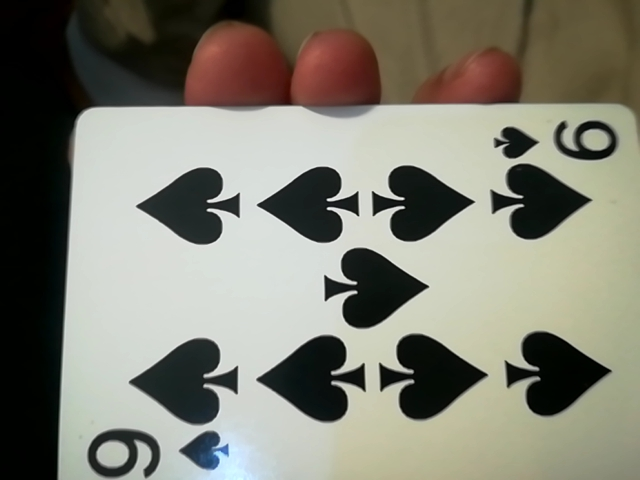ht 9: (43, 107, 634, 478)
